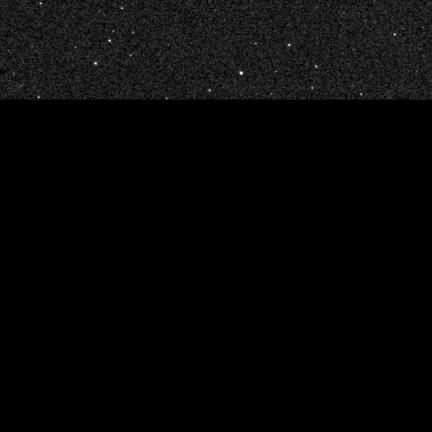blob: (240, 71, 244, 76), (288, 44, 292, 47), (108, 40, 112, 43), (315, 65, 318, 69), (394, 33, 397, 37), (208, 89, 211, 92), (312, 87, 314, 90), (38, 97, 41, 99)
